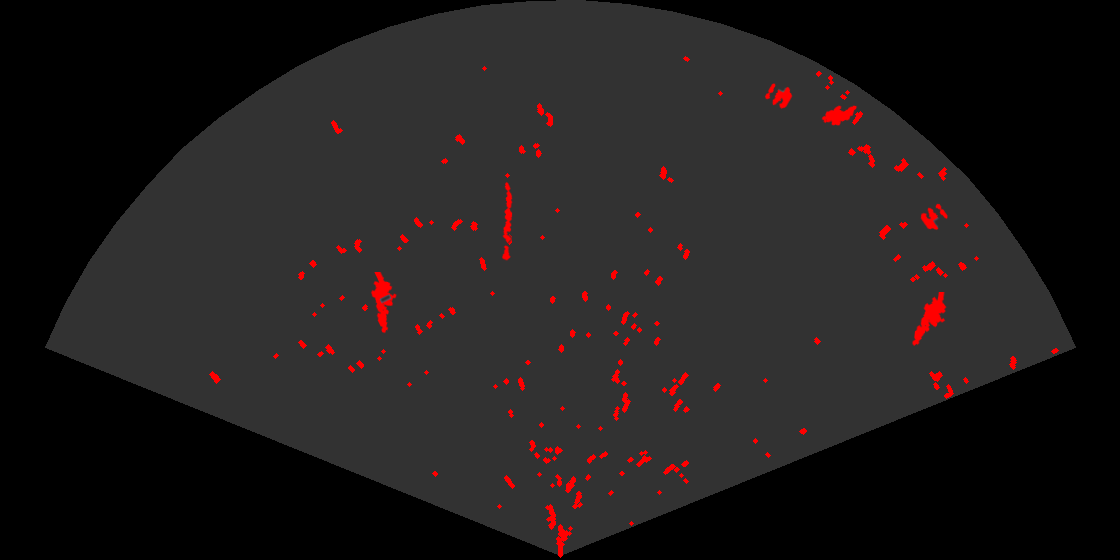AUV: (820, 104, 859, 127)
ball: (919, 202, 949, 232), (763, 82, 794, 111)
chain: (501, 180, 514, 261)
frogman: (911, 292, 948, 348), (369, 272, 398, 335)
